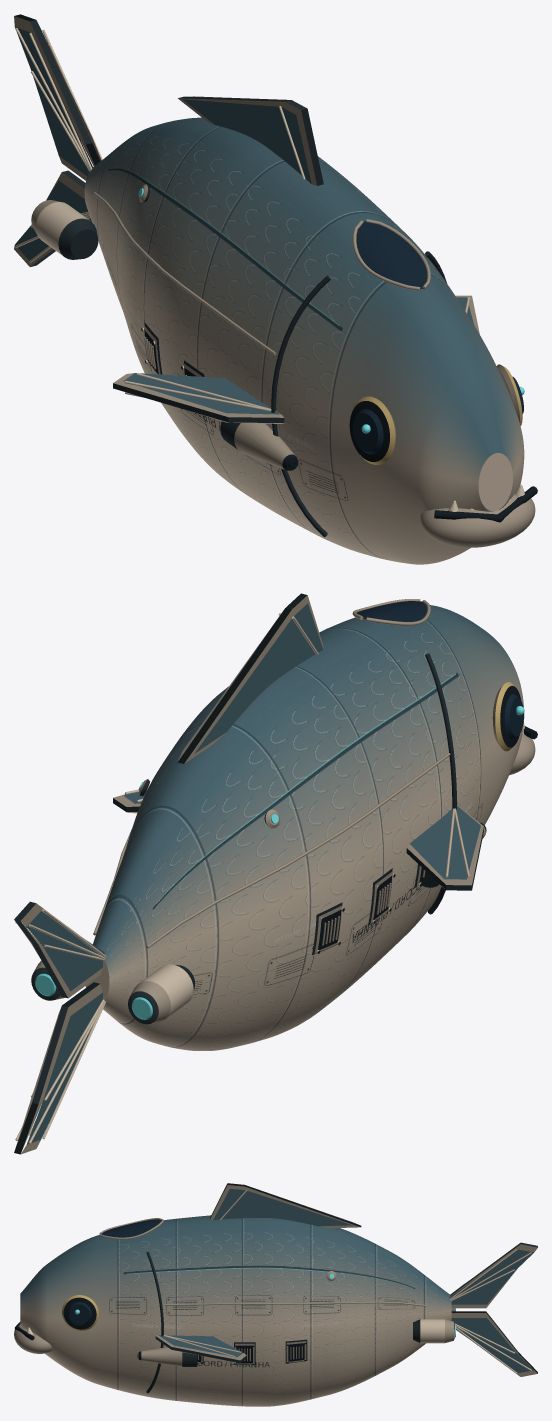
The model's file is ship.glb.
3 views of the same model, one above another, from view 1: azimuth 30°, elevation 25°; view 2: azimuth 150°, elevation 25°; view 3: azimuth 270°, elevation 25° (orthographic). The views are drawn at different scales.
Parts seen in each view (by area): view 1: piranha_hull; view 2: piranha_hull; view 3: piranha_hull.
Boxes of the visible parts, left/top/right/bottom form: piranha_hull: left=14, top=14, right=537, bottom=564; piranha_hull: left=14, top=593, right=537, bottom=1154; piranha_hull: left=14, top=1183, right=537, bottom=1406.
Size of the model in its own units: 6.42 by 6.94 by 15.
Materials: 1 (1 with a texture image).
